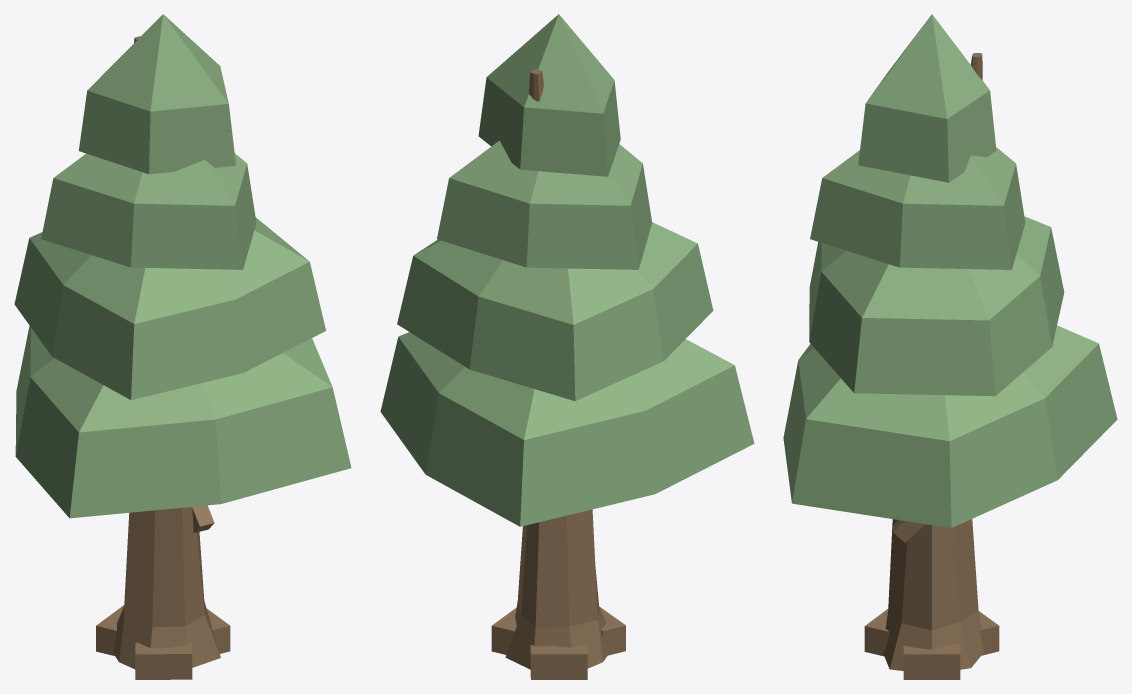
File: tree.glb
3 views of the same model, side by side, from view 1: azimuth 30°, elevation 25°; view 2: azimuth 150°, elevation 25°; view 3: azimuth 270°, elevation 25° (orthographic).
Parts seen in each view (by area): view 1: Tree_Foliage, Tree_Trunk; view 2: Tree_Foliage, Tree_Trunk; view 3: Tree_Foliage, Tree_Trunk.
Part boxes in pixels (x1,y1,x2,y2): Tree_Foliage: (14, 14, 351, 518); Tree_Trunk: (96, 36, 230, 679); Tree_Foliage: (380, 14, 754, 526); Tree_Trunk: (491, 69, 625, 679); Tree_Foliage: (783, 14, 1117, 527); Tree_Trunk: (864, 53, 999, 679).
Bounding box in the file's own units: 3.19 × 6.22 × 2.94.
